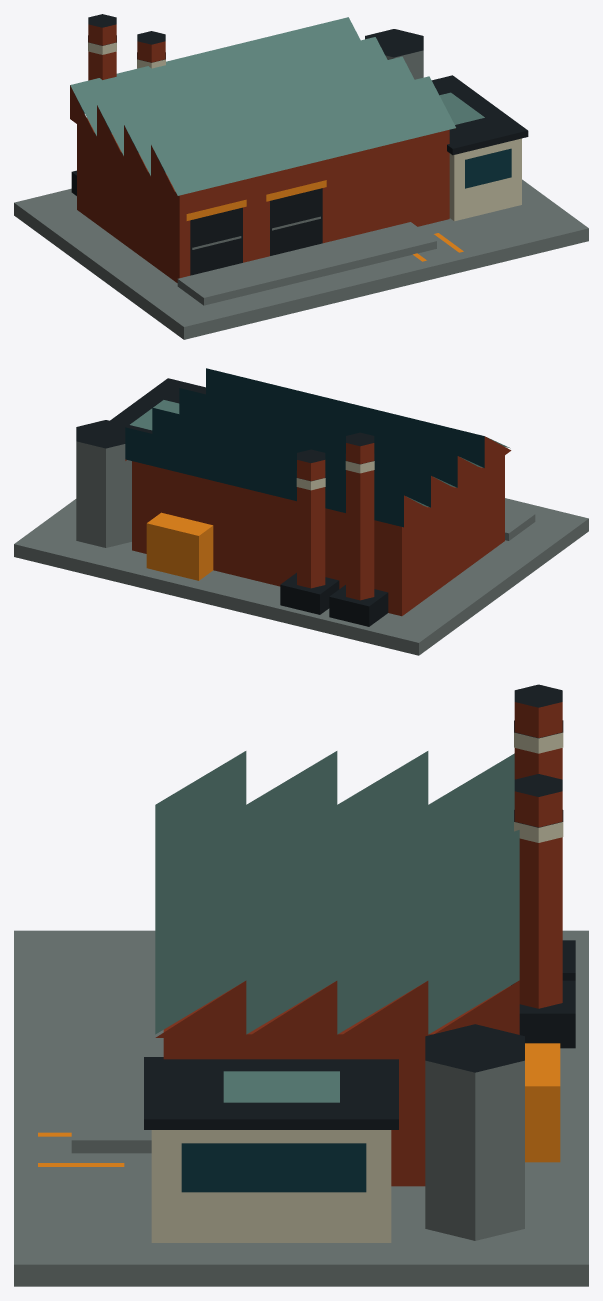
File: factory.obj
The picture shows the model from 3 angles, top to bottom: view 1: azimuth 30°, elevation 25°; view 2: azimuth 150°, elevation 25°; view 3: azimuth 270°, elevation 25°; orthographic projection. The views are drawn at different scales.
Visible parts, largest first — view 1: fabrica_lowpoly; view 2: fabrica_lowpoly; view 3: fabrica_lowpoly.
Boxes of the visible parts, x1,y1,x2,y2 form: fabrica_lowpoly: [14, 14, 588, 339]; fabrica_lowpoly: [14, 368, 588, 655]; fabrica_lowpoly: [14, 684, 588, 1286].
Bounding box in the file's own units: 6.6 × 2.92 × 4.8.
